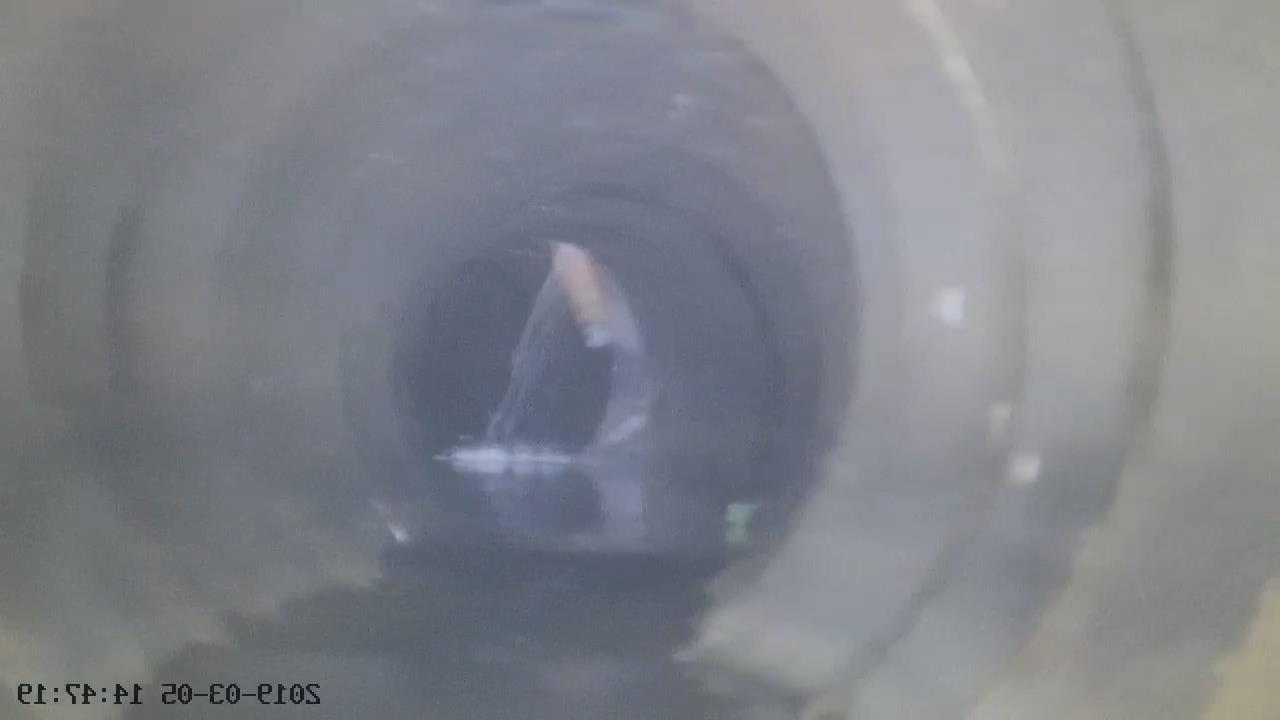SL: (495, 236, 629, 472)
